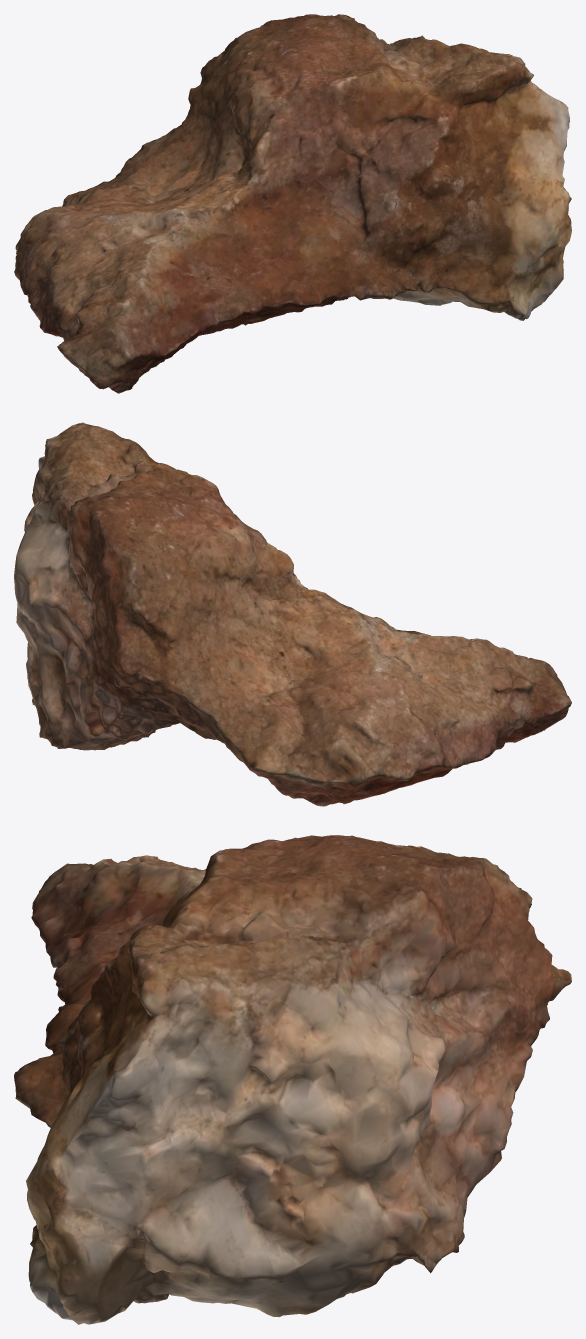
File: stone-01.glb
The picture shows the model from 3 angles, top to bottom: view 1: azimuth 30°, elevation 25°; view 2: azimuth 150°, elevation 25°; view 3: azimuth 270°, elevation 25°; orthographic projection. The views are drawn at different scales.
Parts seen in each view (by area): view 1: stone_01; view 2: stone_01; view 3: stone_01.
Part boxes in pixels (x1,y1,x2,y2): stone_01: [14, 14, 571, 393]; stone_01: [14, 422, 571, 806]; stone_01: [14, 835, 571, 1324].
Size of the model in its own units: 0.1469 by 0.0718 by 0.0891.
1 material, 1 textured.
